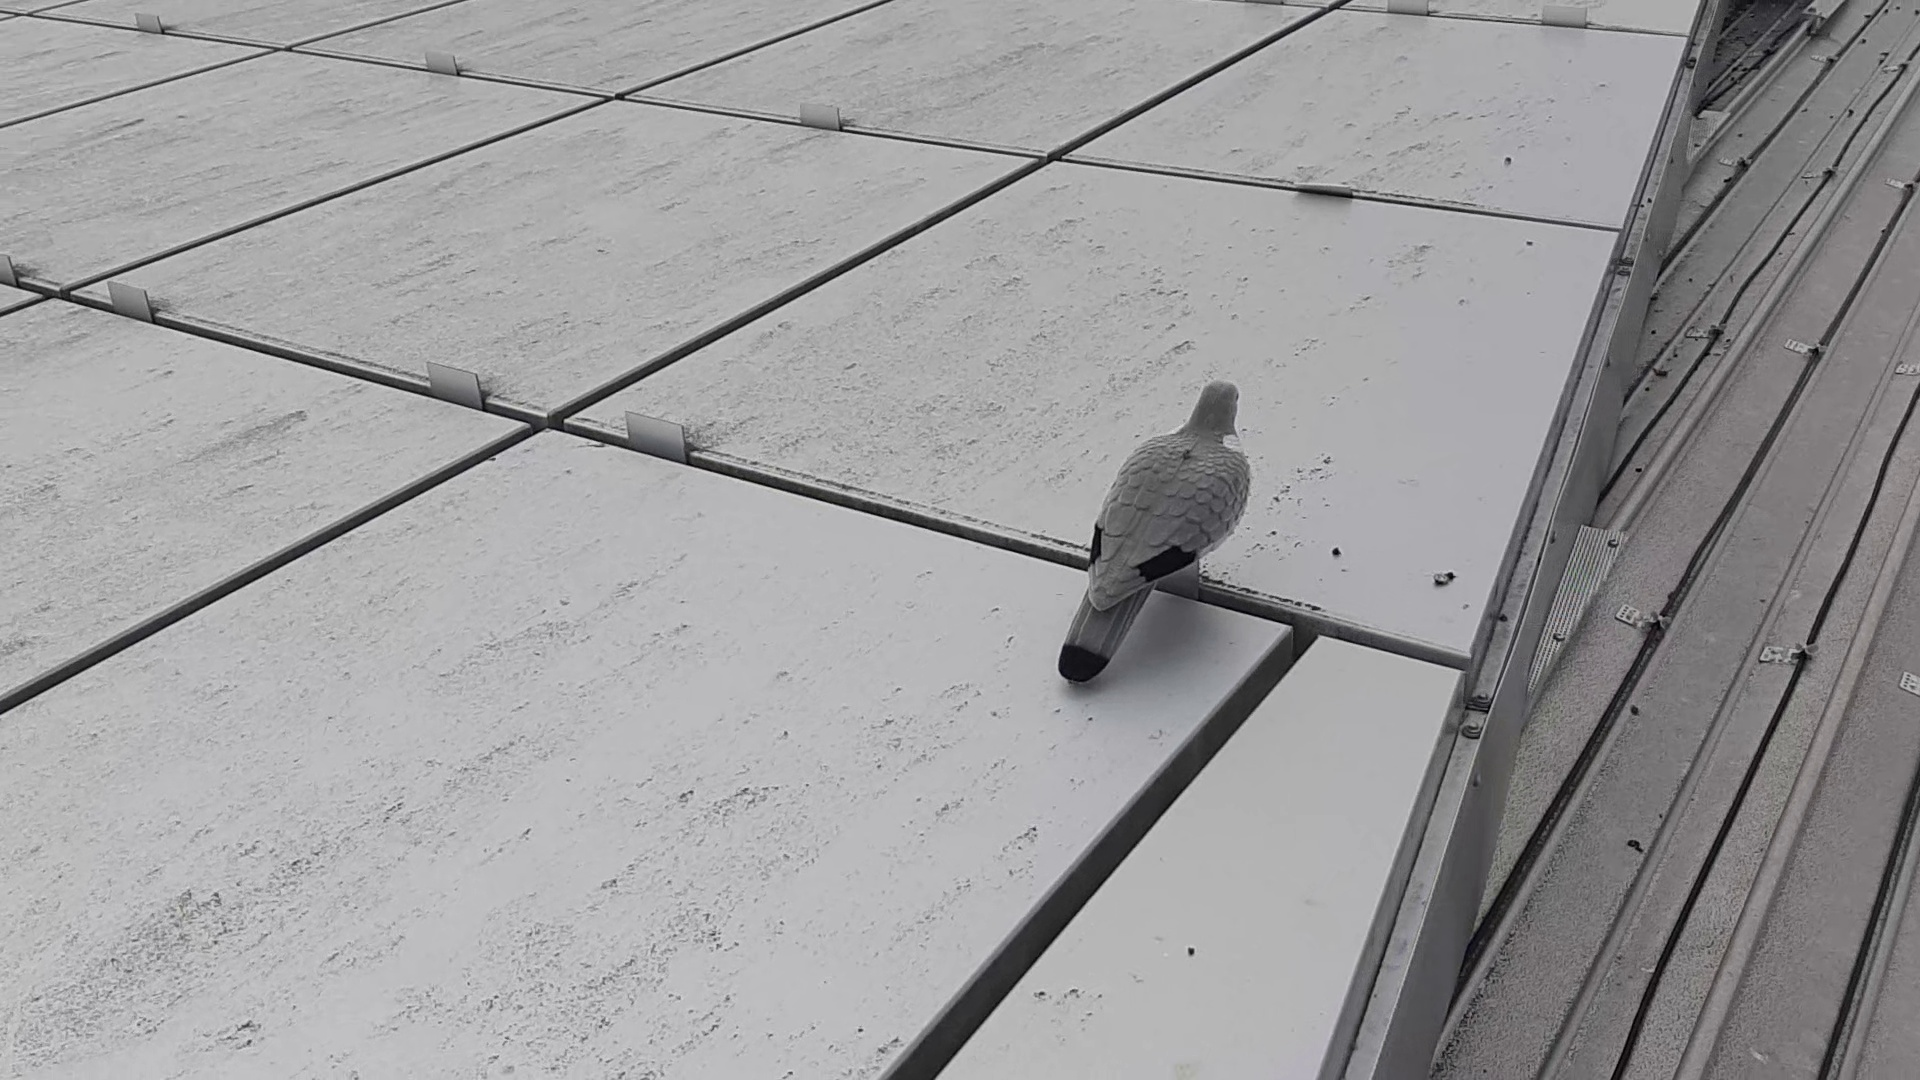Pigeon: (1059, 372, 1258, 699)
